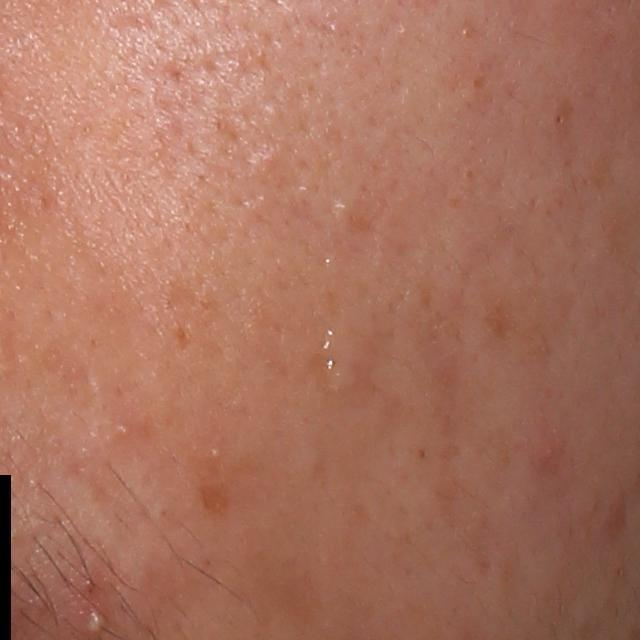comedo: (551, 111, 565, 128)
pustule: (81, 595, 112, 639)
